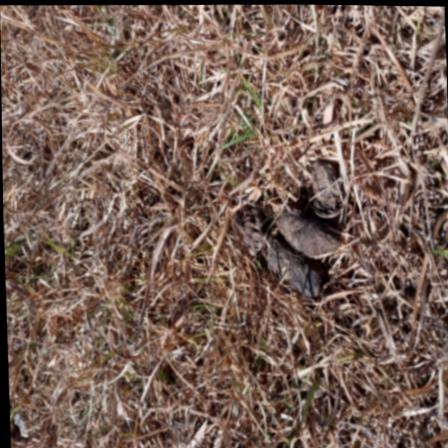dog-poop: (224, 166, 350, 292)
